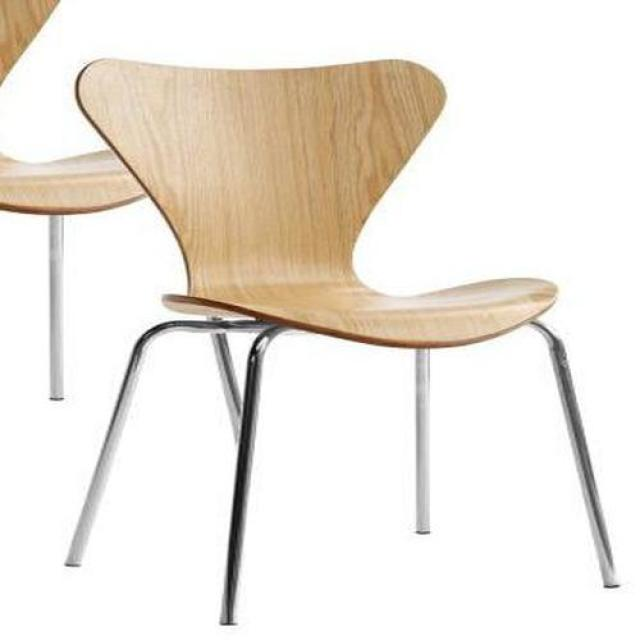chair: (64, 59, 558, 628), (539, 328, 620, 593)
